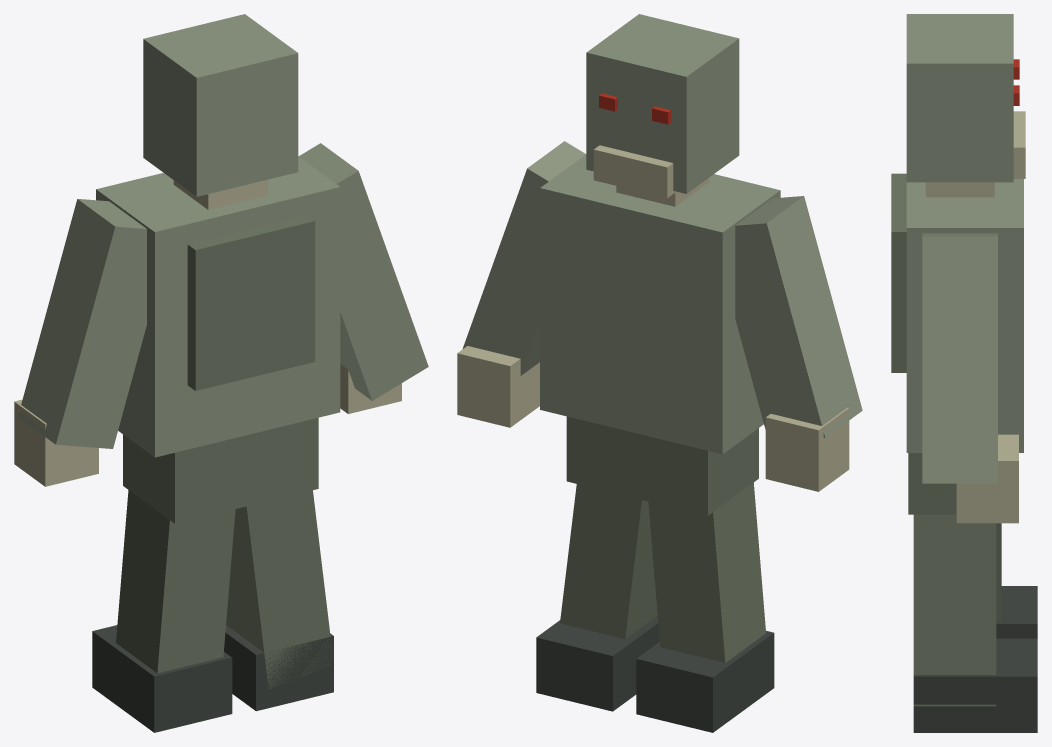
File: infected.glb
3 renders of one model, left to right at view 1: azimuth 30°, elevation 25°; view 2: azimuth 150°, elevation 25°; view 3: azimuth 270°, elevation 25°, orthographic.
Parts seen in each view (by area): view 1: torso, head, arm-left, chest-plate, leg-left, leg-right, pelvis, arm-right, boot-left, boot-right, hand-left, hand-right (+1 smaller); view 2: torso, head, arm-left, leg-left, pelvis, leg-right, arm-right, boot-left, boot-right, hand-left, hand-right, jaw (+1 smaller); view 3: arm-right, head, torso, leg-right, boot-right, hand-right, chest-plate, boot-left, pelvis, neck, jaw, leg-left.
Boxes of the visible parts, x1,y1,x2,y2 form: torso: (96,156,340,457); head: (143,14,298,196); arm-left: (18,199,146,448); chest-plate: (187,215,315,390); leg-left: (116,490,235,673); leg-right: (226,490,331,688); pelvis: (123,417,318,523); arm-right: (299,143,428,400); boot-left: (92,625,232,732); boot-right: (224,625,333,711); hand-left: (14,399,98,486); hand-right: (340,364,401,413); torso: (540,154,780,454); head: (586,14,739,193); arm-left: (735,196,862,437); leg-left: (648,482,765,662); pelvis: (566,416,758,515); leg-right: (560,484,657,638); arm-right: (462,141,585,375); boot-left: (636,631,774,732); boot-right: (536,616,659,711); hand-left: (765,407,849,491); hand-right: (457,346,539,427); jaw: (593,145,675,198); arm-right: (922,233,997,483); head: (906,14,1013,182); torso: (906,179,1023,452); leg-right: (913,514,996,706); boot-right: (913,638,1037,732); hand-right: (956,434,1018,523); chest-plate: (891,173,906,372); boot-left: (996,586,1037,638); pelvis: (908,453,956,514); neck: (925,182,994,197); jaw: (1013,111,1025,178); leg-left: (996,523,1001,620).
Size of the model in its own units: 1.25 by 2.08 by 0.425.
